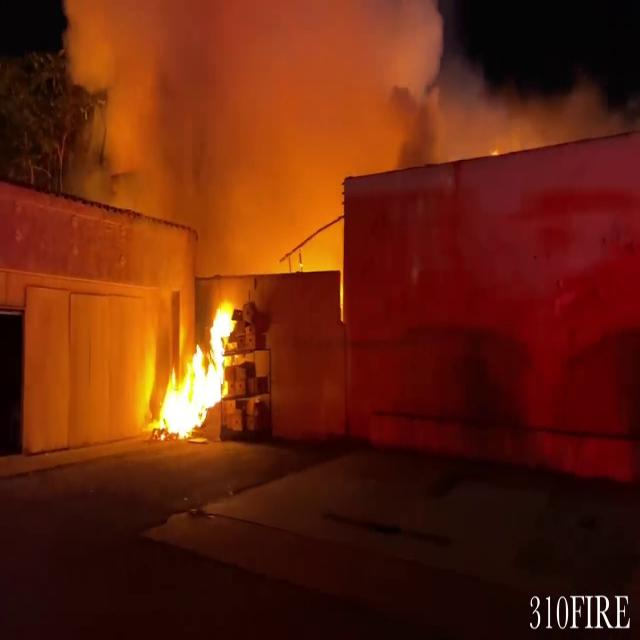Fire: (145, 294, 243, 441)
Smoke: (53, 1, 457, 275)
